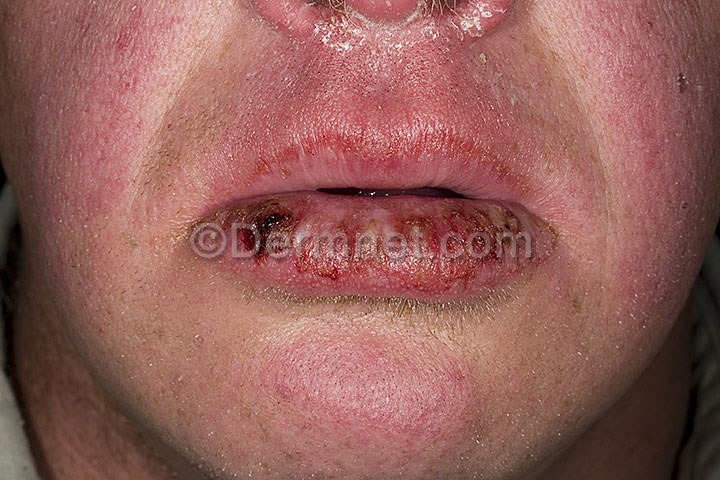Melasma: (239, 0, 523, 225), (586, 2, 711, 313), (46, 0, 181, 236), (252, 350, 497, 476), (230, 259, 556, 334)
